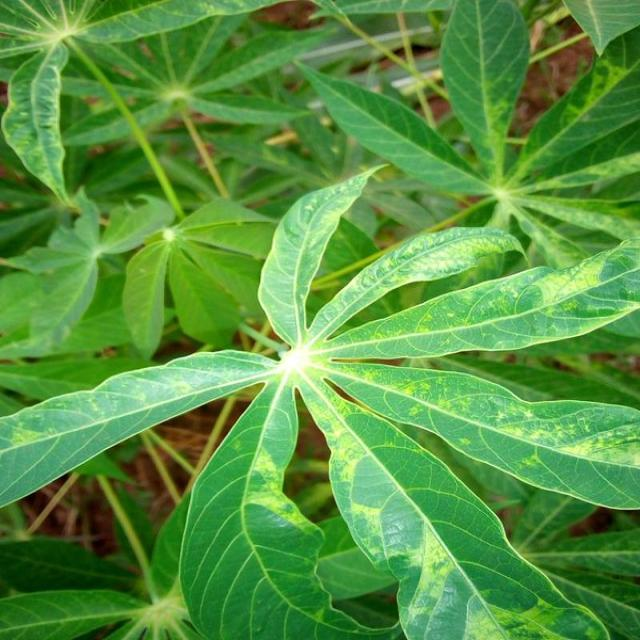cassava leaf: (1, 163, 638, 638)
